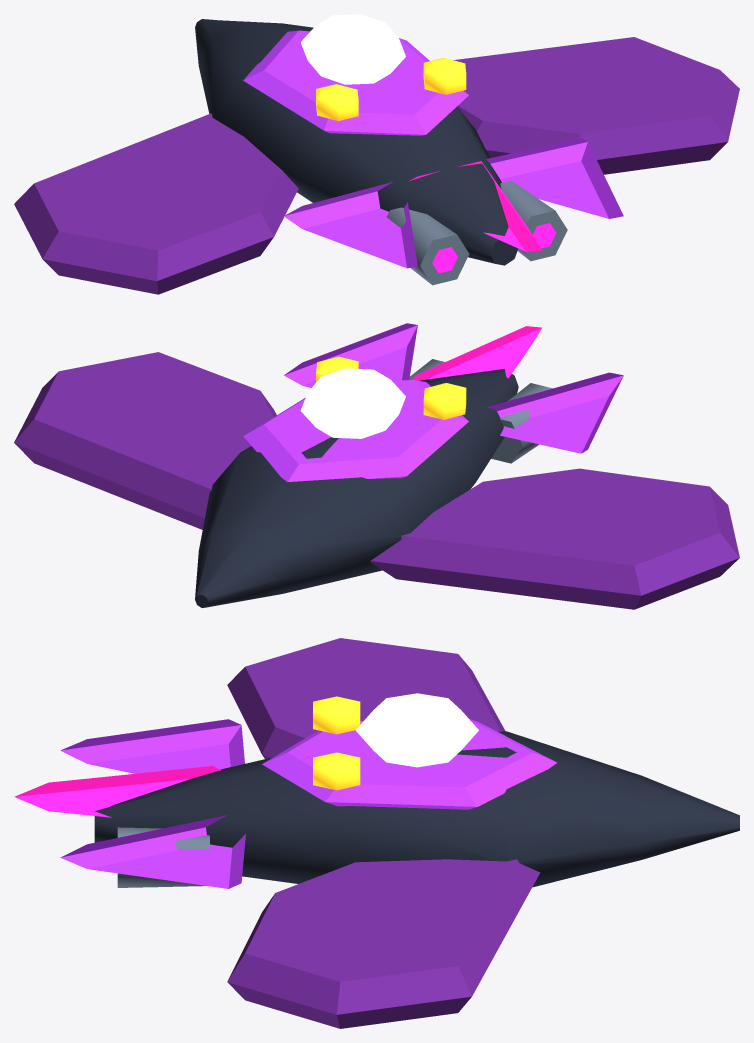
File: boss_void_harbinger_mockup.glb
The picture shows the model from 3 angles, top to bottom: view 1: azimuth 30°, elevation 25°; view 2: azimuth 150°, elevation 25°; view 3: azimuth 270°, elevation 25°; orthographic projection. The views are drawn at different scales.
Visible parts, largest first — view 1: ELITE BOSS // VOID HARBINGER; view 2: ELITE BOSS // VOID HARBINGER; view 3: ELITE BOSS // VOID HARBINGER.
Part boxes in pixels (box(x1,y1,x2,y2)): ELITE BOSS // VOID HARBINGER: box(14, 14, 739, 294); ELITE BOSS // VOID HARBINGER: box(14, 323, 739, 609); ELITE BOSS // VOID HARBINGER: box(14, 638, 739, 1028).
Size of the model in its own units: 10.01 by 2.23 by 8.47.
